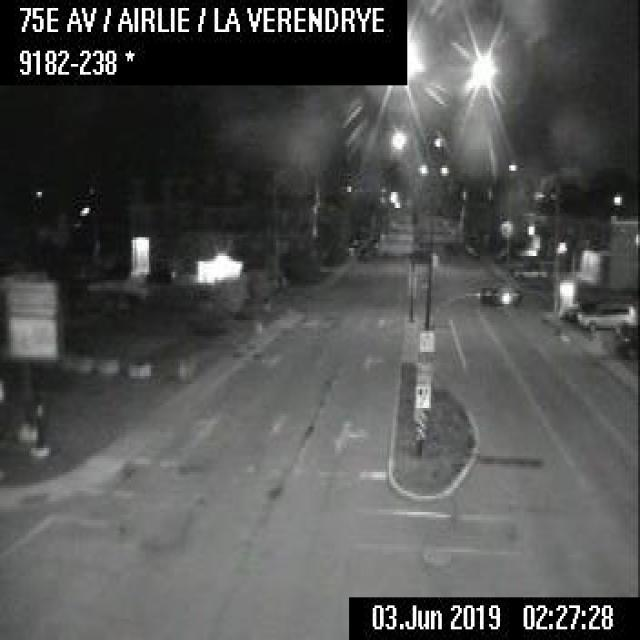vehicle: (577, 298, 637, 330), (613, 318, 638, 354), (512, 260, 545, 280)
